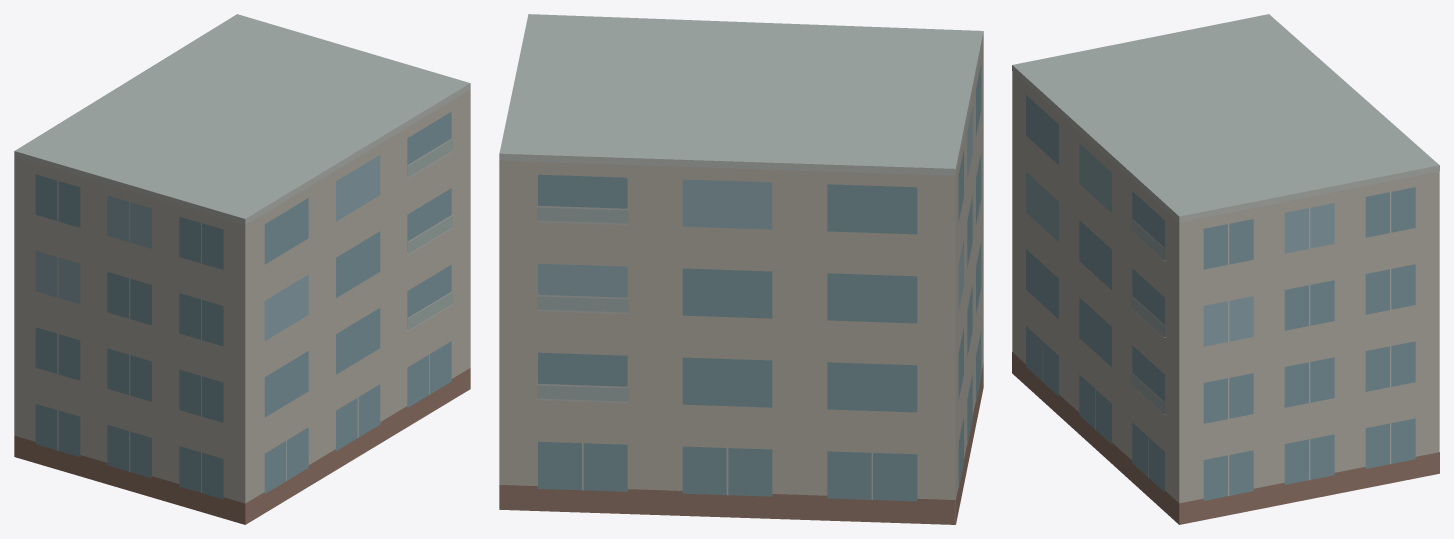
Rendered from survey-upis-32724971.glb.
3 views of the same model, side by side, from view 1: azimuth 30°, elevation 25°; view 2: azimuth 150°, elevation 25°; view 3: azimuth 270°, elevation 25° (orthographic). The views are drawn at different scales.
Visible parts, largest first — view 1: survey-upis-32724971.tmp; view 2: survey-upis-32724971.tmp; view 3: survey-upis-32724971.tmp.
Part boxes in pixels (x1,y1,x2,y2): survey-upis-32724971.tmp: [14, 14, 470, 524]; survey-upis-32724971.tmp: [499, 14, 983, 524]; survey-upis-32724971.tmp: [1012, 14, 1439, 524].
Size of the model in its own units: 17.47 by 12.4 by 15.59.
